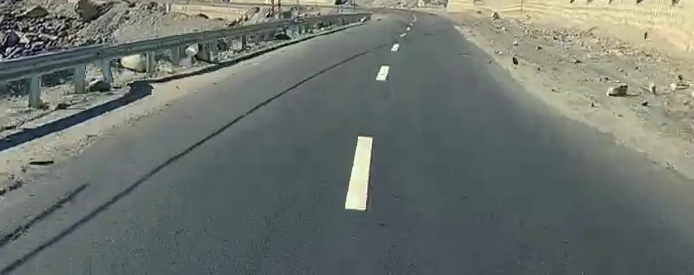left: (281, 48, 470, 229)
